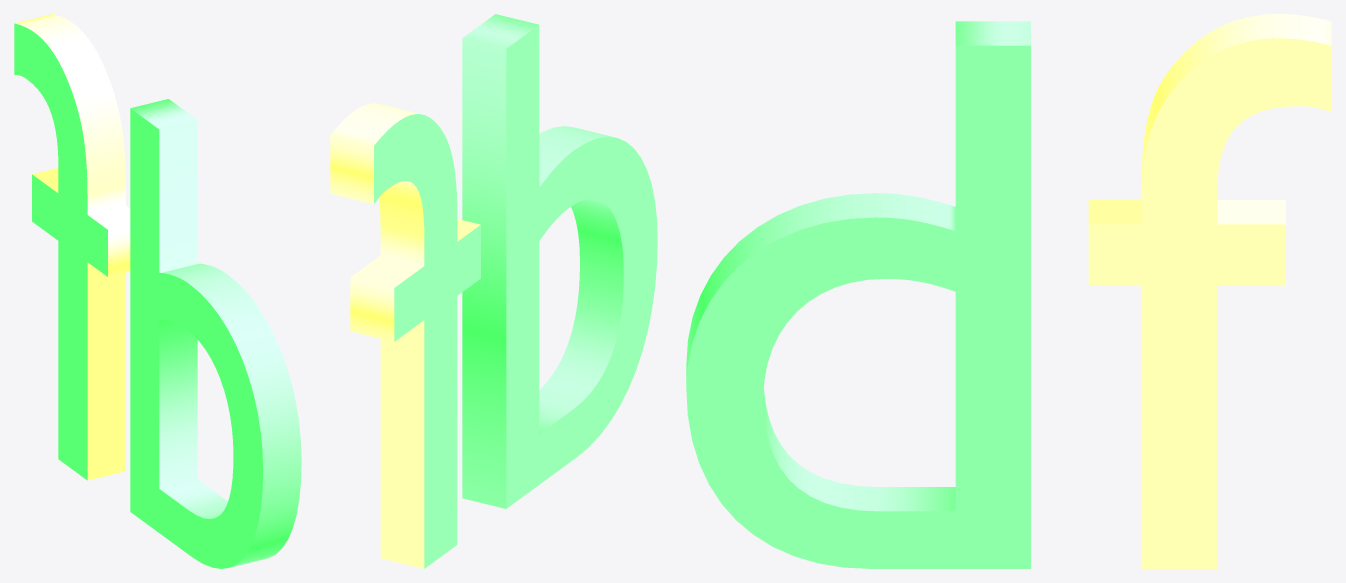
File: title-transformed.glb
3 renders of one model, left to right at view 1: azimuth 30°, elevation 25°; view 2: azimuth 150°, elevation 25°; view 3: azimuth 270°, elevation 25°, orthographic. The views are drawn at different scales.
Parts seen in each view (by area): view 1: Text; view 2: Text; view 3: Text.
Boxes of the visible parts, x1=… form: Text: x1=14, y1=14, x2=301, y2=568; Text: x1=330, y1=14, x2=657, y2=568; Text: x1=686, y1=14, x2=1331, y2=568.
Bounding box in the file's own units: 0.219 × 2.23 × 2.45.
